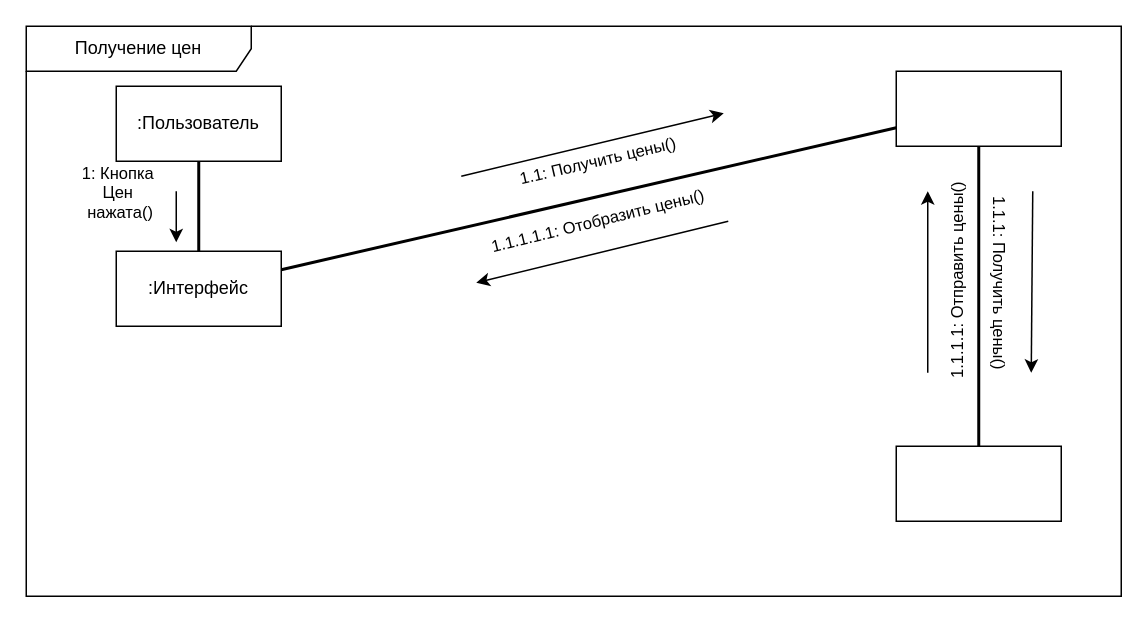
Image size: 1148x623. Some labels were removed from this diagram. Here are the shapes that lost their labels. From the top down, the box of each, then its label:
(895, 70, 1061, 146): :Система
(895, 445, 1061, 521): :Сервис
